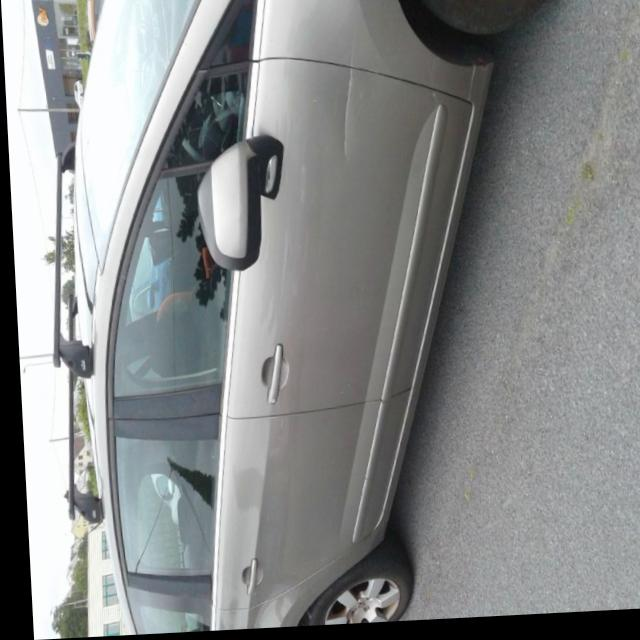porte-avant: (86, 54, 487, 428)
